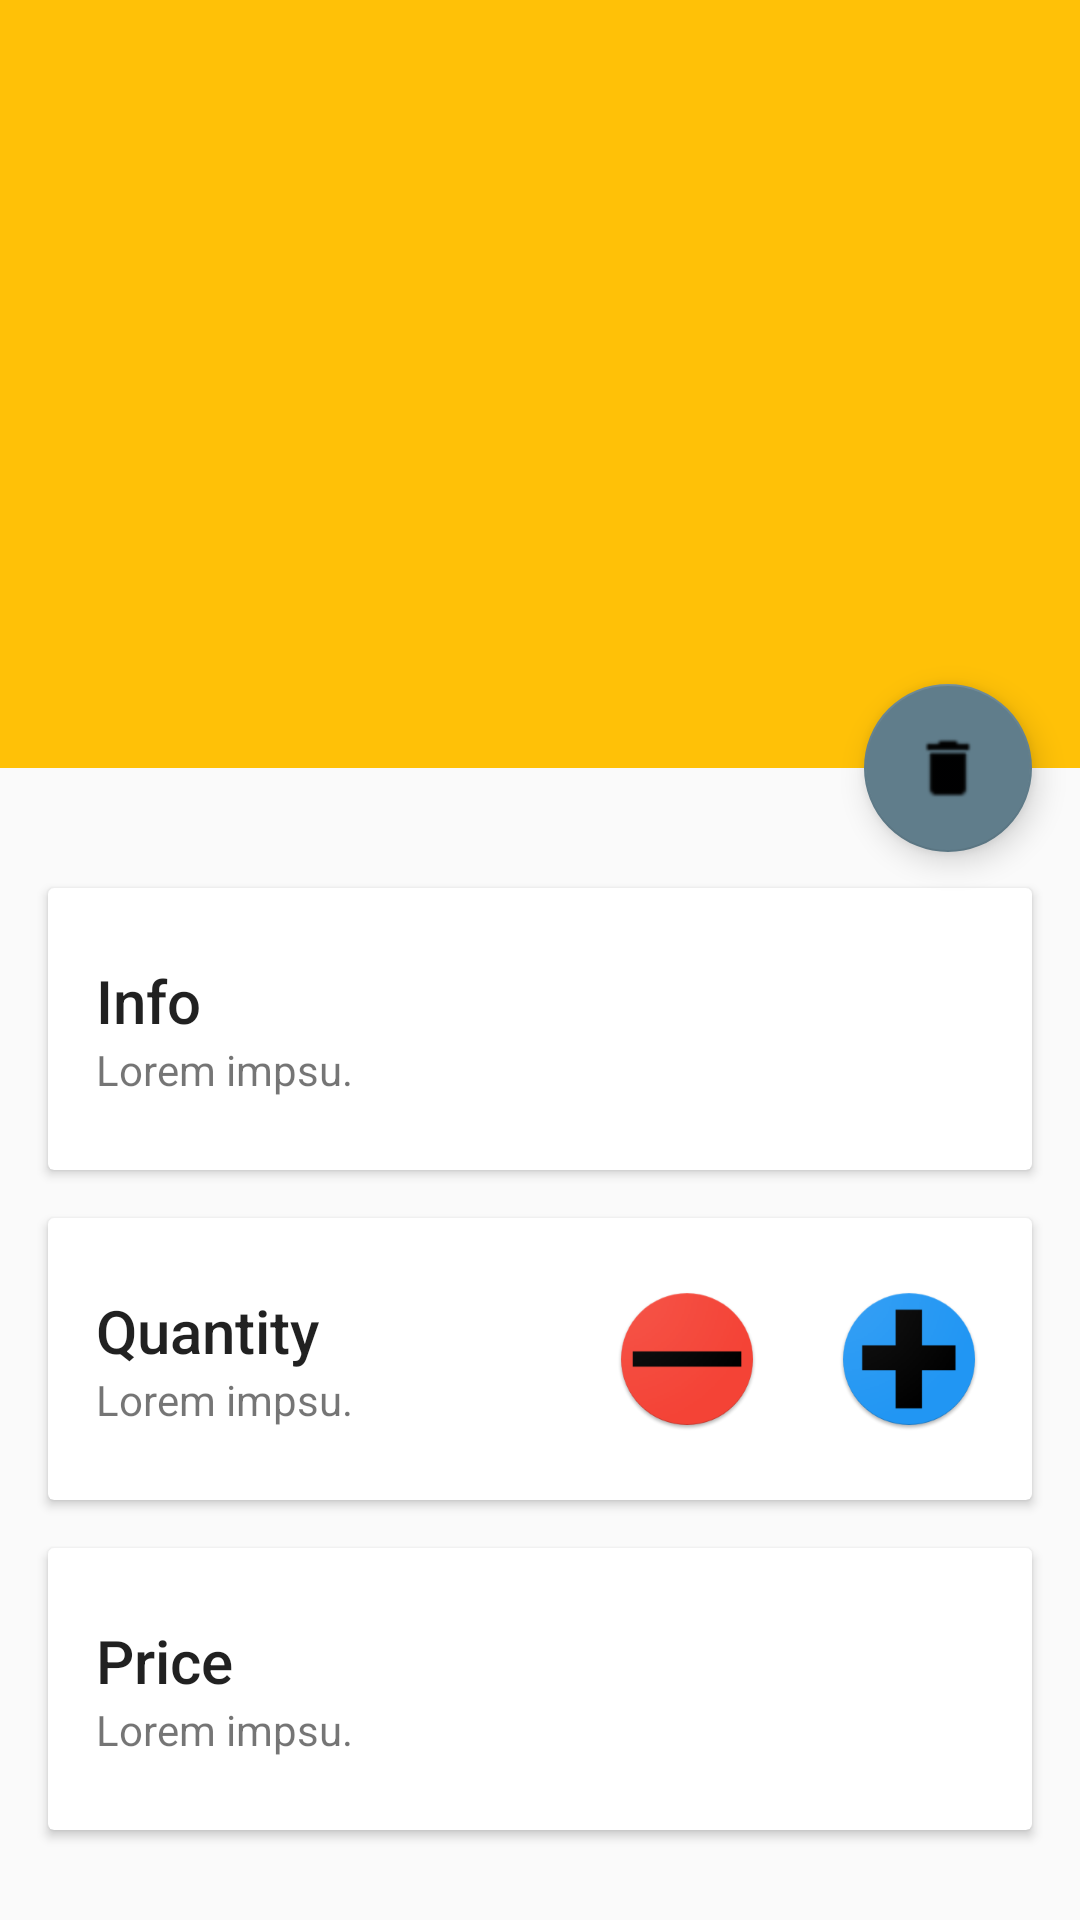

Where to tap for icons on this 1080 x 1920 app screen, as (x=x, y=y):
delete: (x=948, y=768)
less: (x=687, y=1360)
more: (x=909, y=1360)
